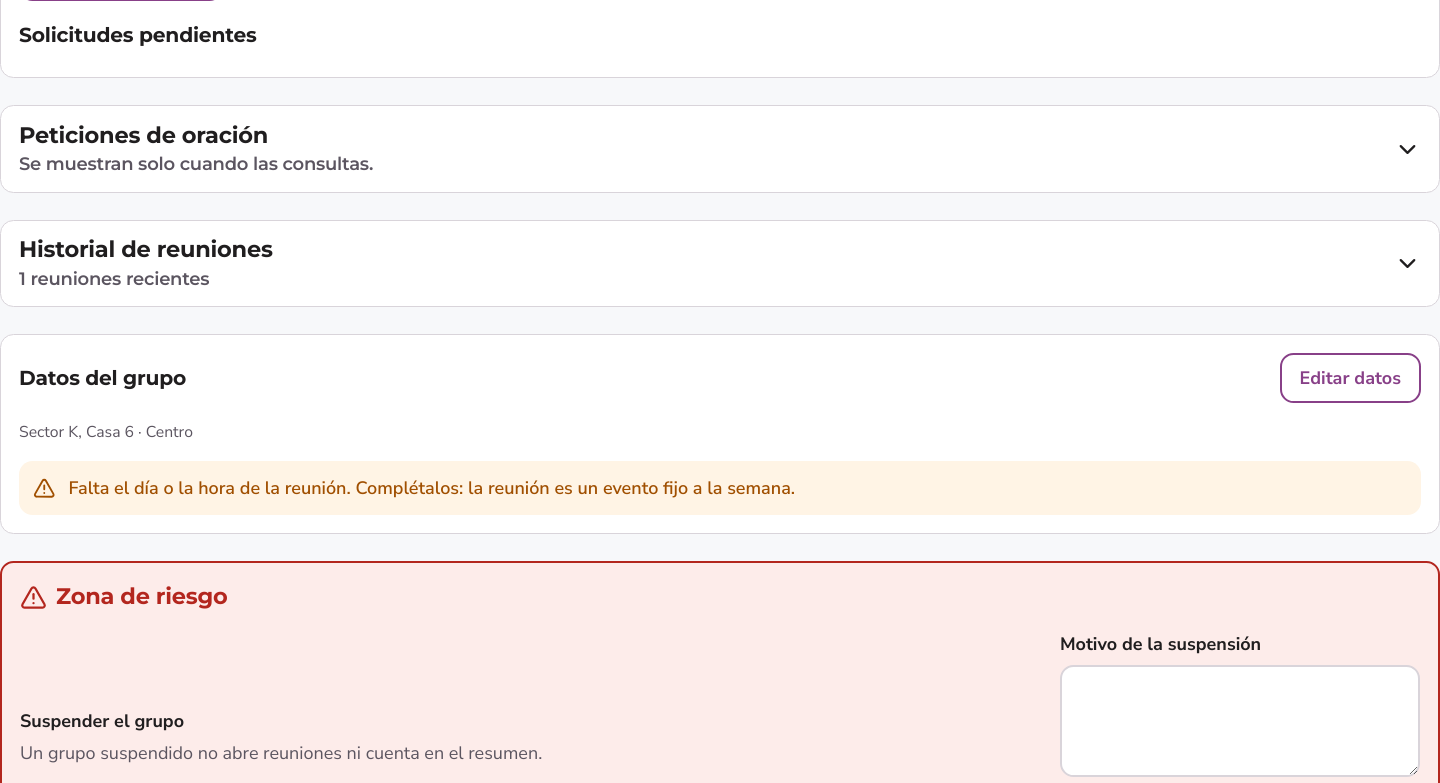
Test case: GrupoPage › la reunión pide día y hora: no se guarda sin ellos
(page scrolled)
Check: the text "Falta el día o la hora de la reunión" is shown, box [68,476,795,500]
Click the button "Editar datos" at (1350,378), box [1280,353,1421,403]
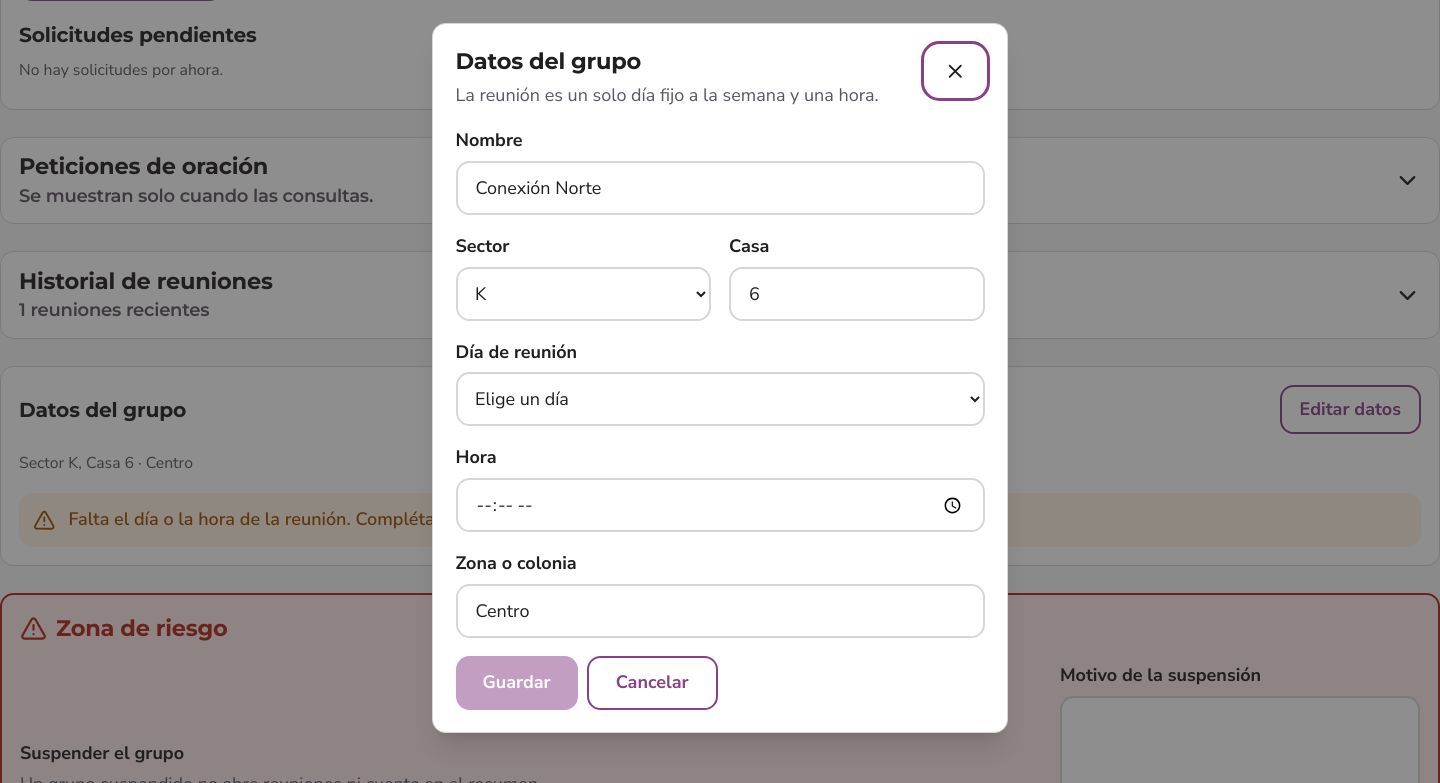
Check: the button "Guardar" is disabled, box [456,656,578,710]
